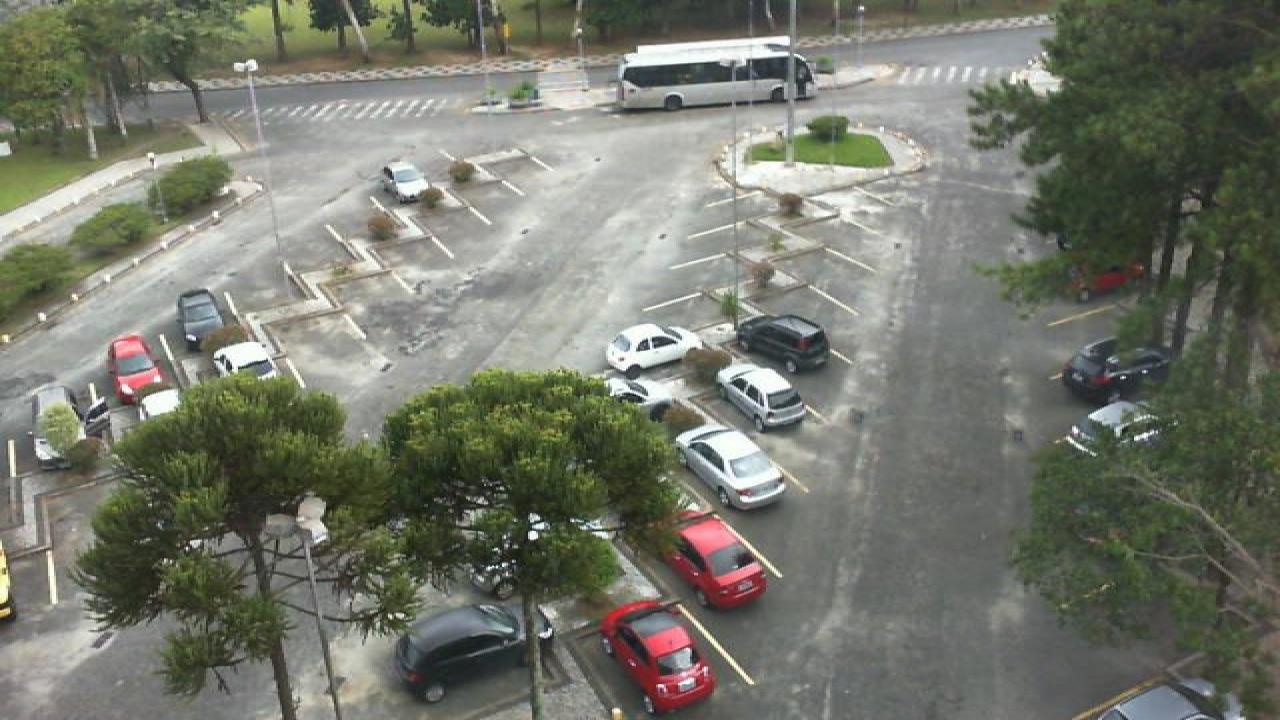Car: (392, 603, 554, 704), (596, 600, 718, 716), (648, 509, 768, 610), (672, 425, 790, 511), (1060, 335, 1172, 404), (1062, 399, 1168, 459), (714, 363, 806, 432), (732, 314, 832, 374), (602, 320, 700, 374), (1088, 679, 1216, 720), (106, 333, 168, 399), (602, 374, 682, 422), (176, 287, 232, 352), (1070, 256, 1150, 300), (212, 340, 278, 387), (380, 160, 432, 204), (136, 387, 188, 426)
